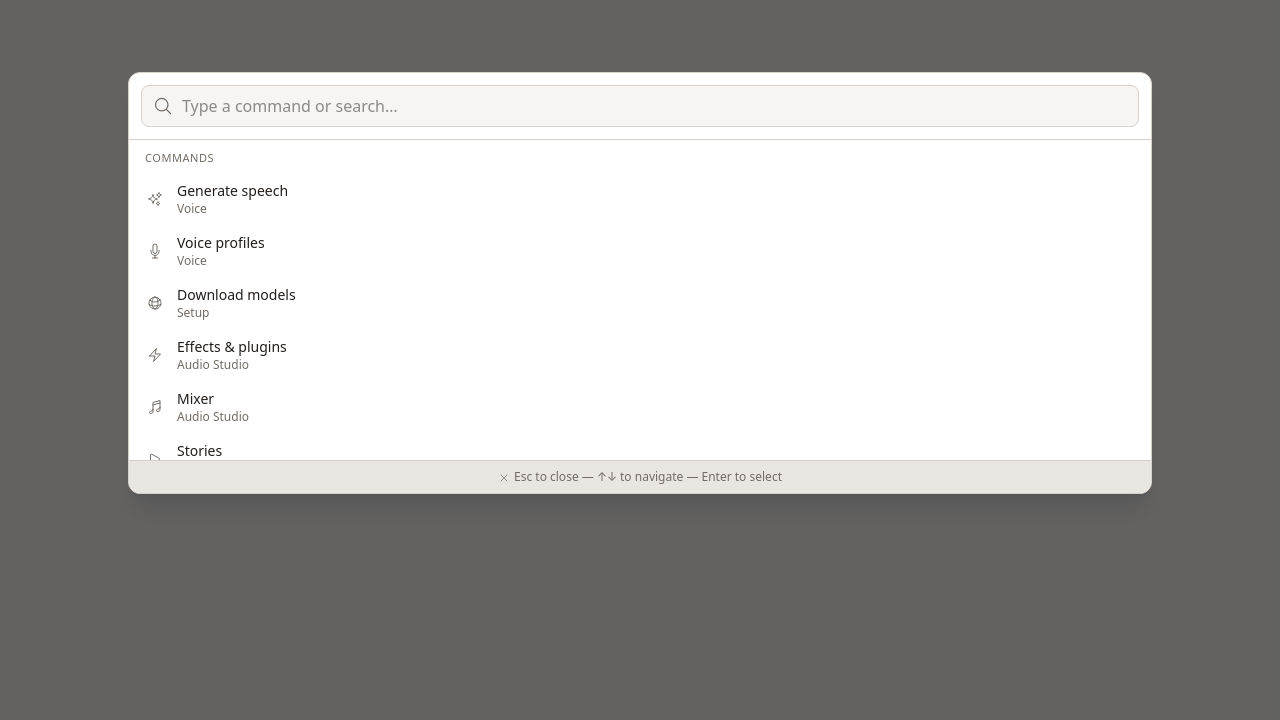
CommandPalette › CommandPalette — registry tabs › finds a tab by keyword (synonyms from the registry)
Step 1. Type "denoise" into the field with placeholder "Type a command or search…" → (640, 106), box [141,85,1139,127]
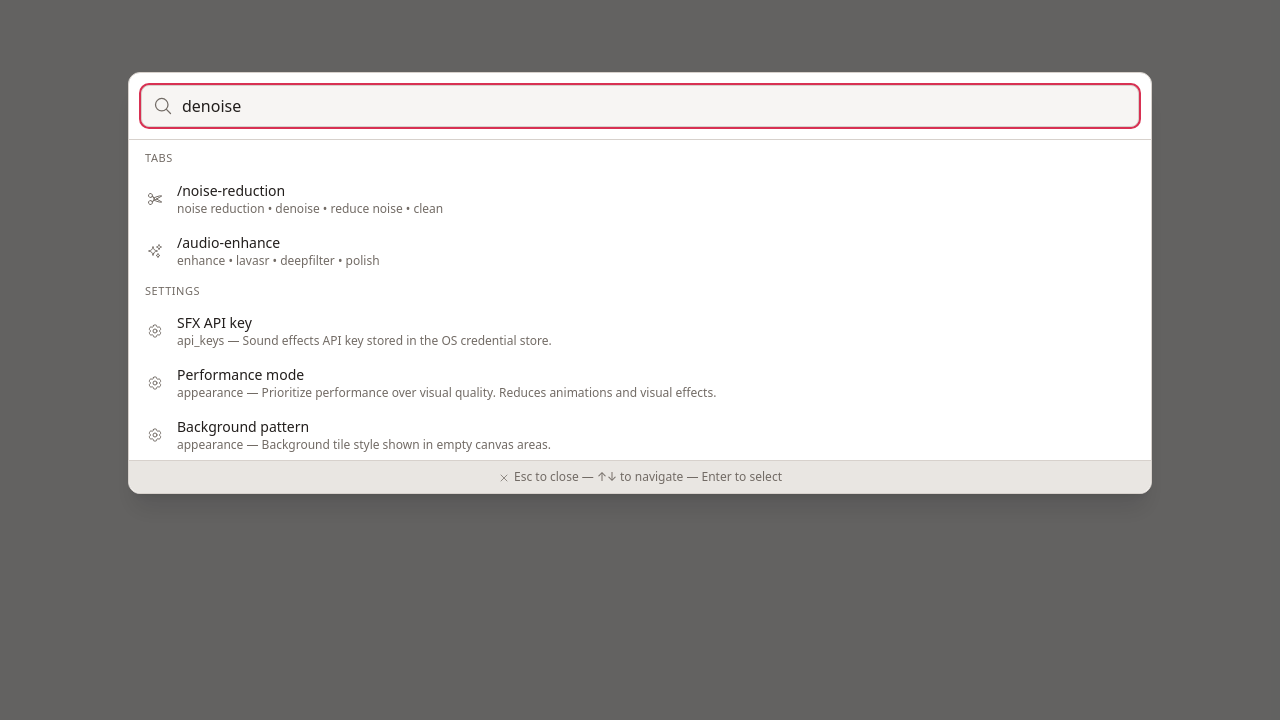
Expected: the text "/noise-reduction" is shown, [177,180,285,200]
